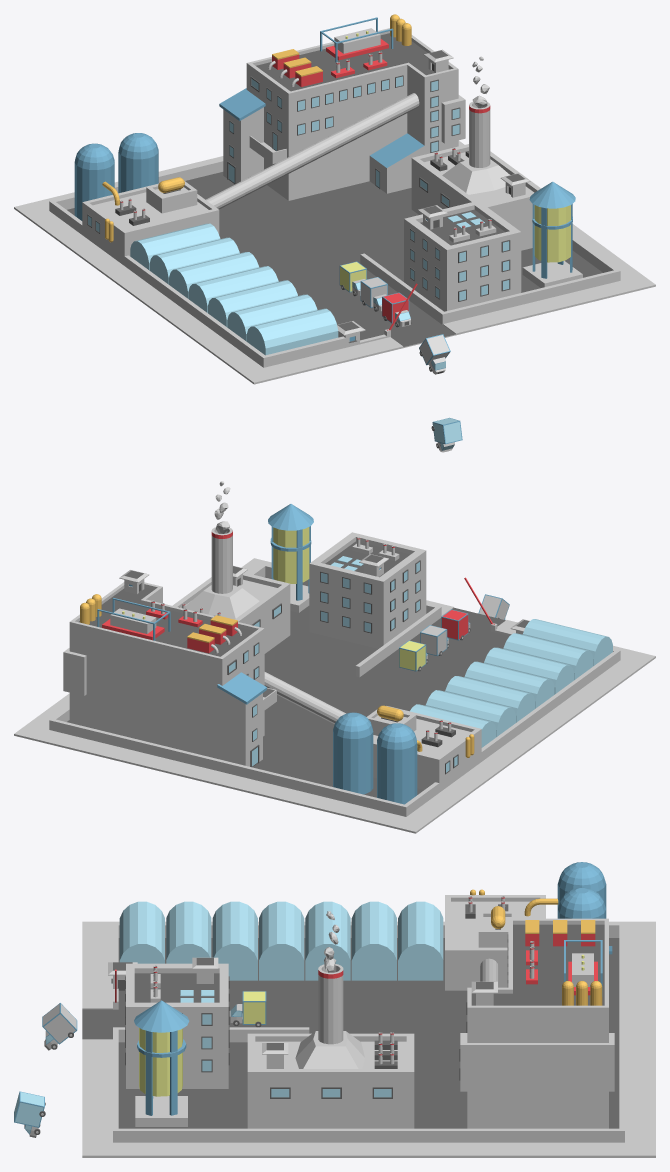
The model's file is factory.glb.
The picture shows the model from 3 angles, top to bottom: view 1: azimuth 30°, elevation 25°; view 2: azimuth 150°, elevation 25°; view 3: azimuth 270°, elevation 25°; orthographic projection. The views are drawn at different scales.
Parts seen in each view (by area): view 1: Factory_001, Car_001; view 2: Factory_001, Car_001; view 3: Factory_001, Car_001, Cloud_001.
Boxes of the visible parts, bbox=[...] form: Factory_001: bbox=[14, 14, 655, 384]; Car_001: bbox=[339, 261, 462, 452]; Factory_001: bbox=[14, 504, 655, 833]; Car_001: bbox=[399, 594, 509, 671]; Factory_001: bbox=[82, 862, 655, 1157]; Car_001: bbox=[14, 991, 266, 1137]; Cloud_001: bbox=[324, 911, 339, 972].
Size of the model in its own units: 1362 by 860 by 1578.
1 material, 1 textured.
